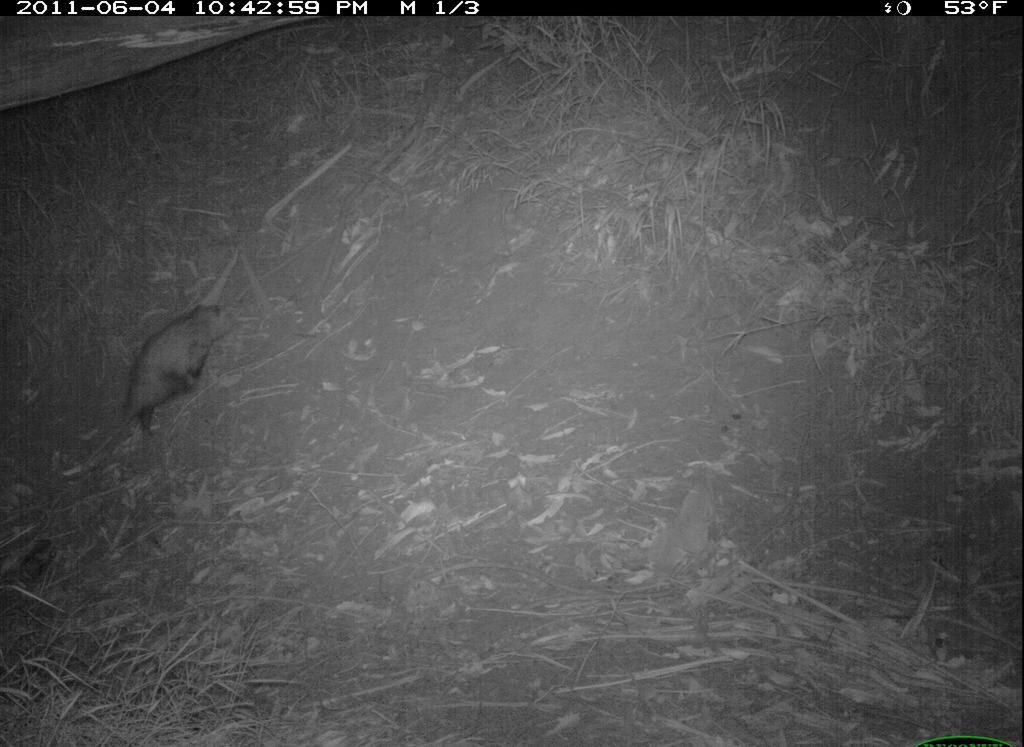opossum: (90, 294, 245, 474)
